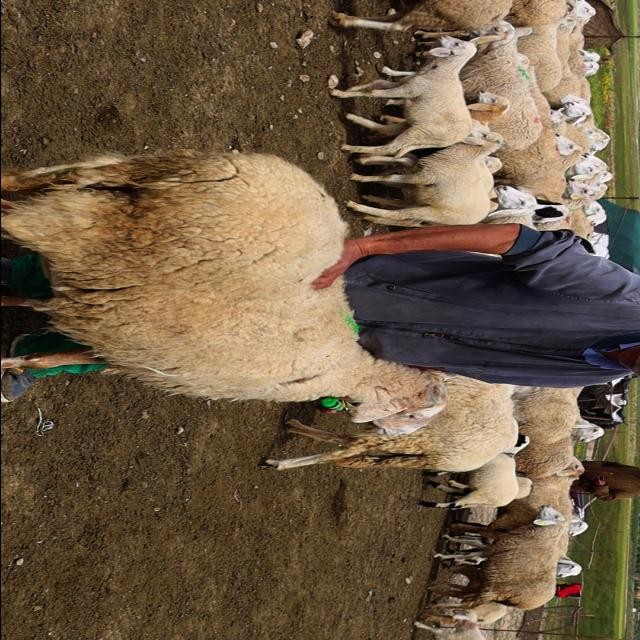Score_3: (1, 149, 452, 437)
